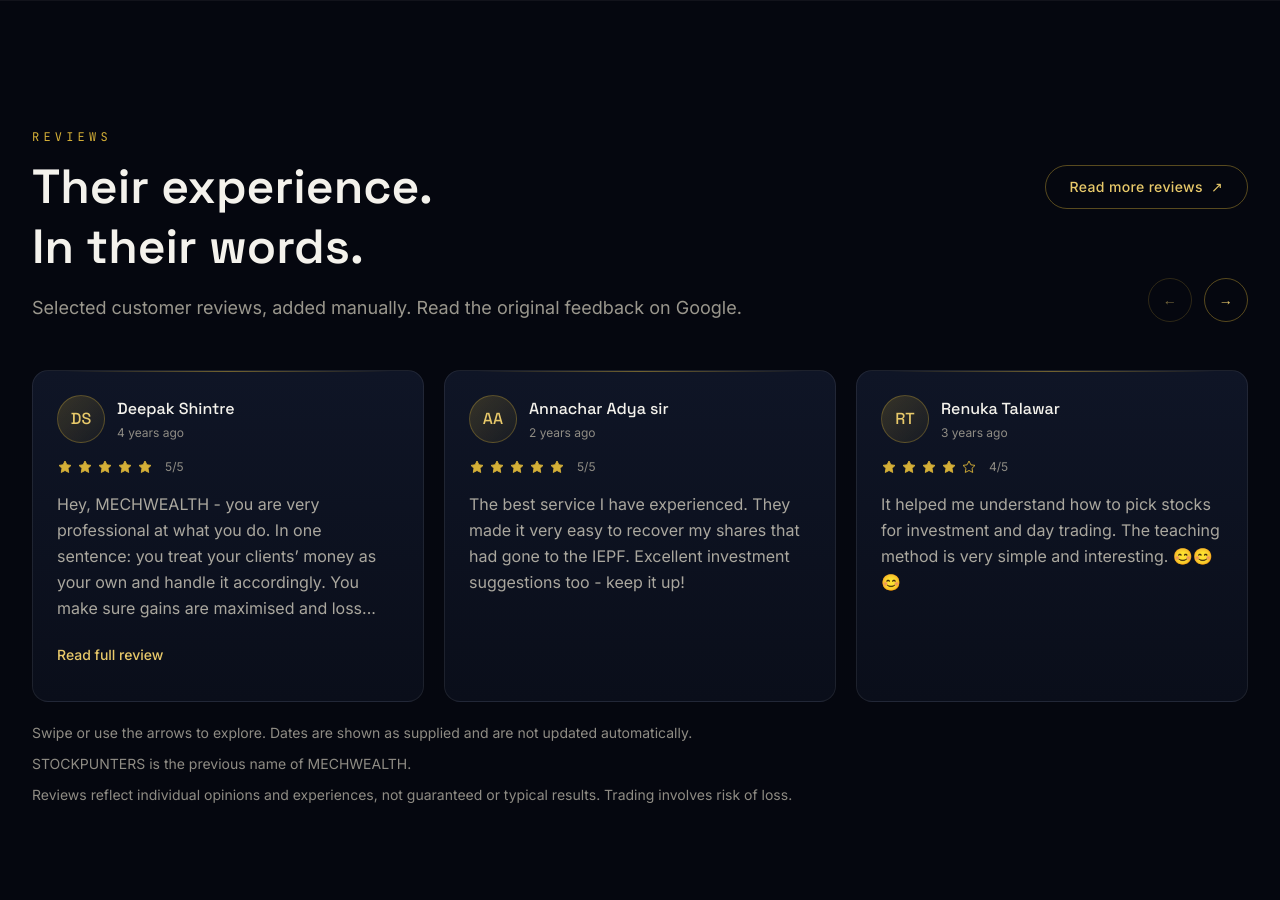
Test: customer review carousel › lets readers expand and collapse the long review without changing its text
The width and height of the screenshot is (1280, 900).
Click the button with aria-label "Read full review by Deepak Shintre". click: (110, 655)
box: [57,633,163,677]
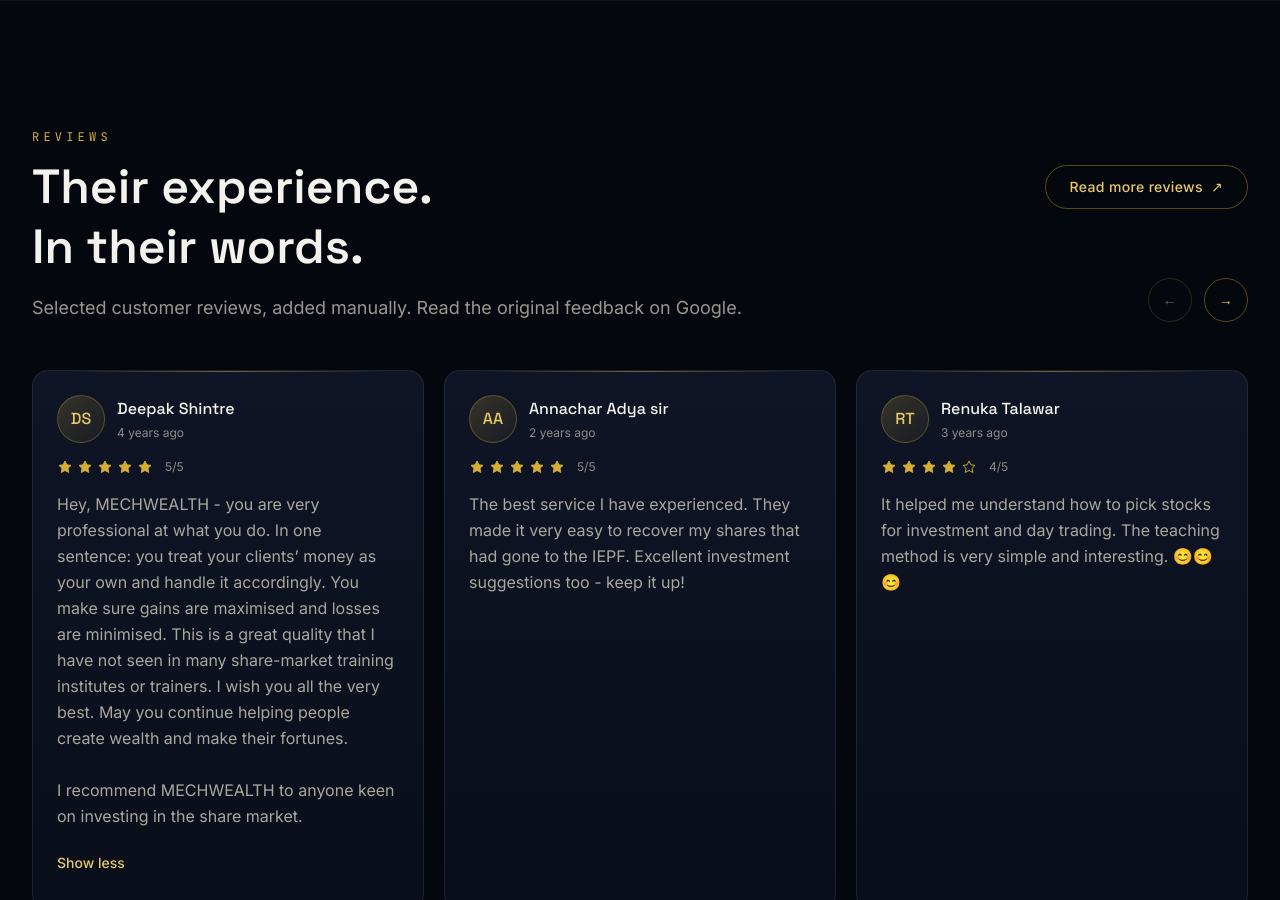
Check: the button with aria-label "Collapse review by Deepak Shintre" is expanded
Click the button with aria-label "Collapse review by Deepak Shintre". click: (91, 863)
box: [57,841,125,885]
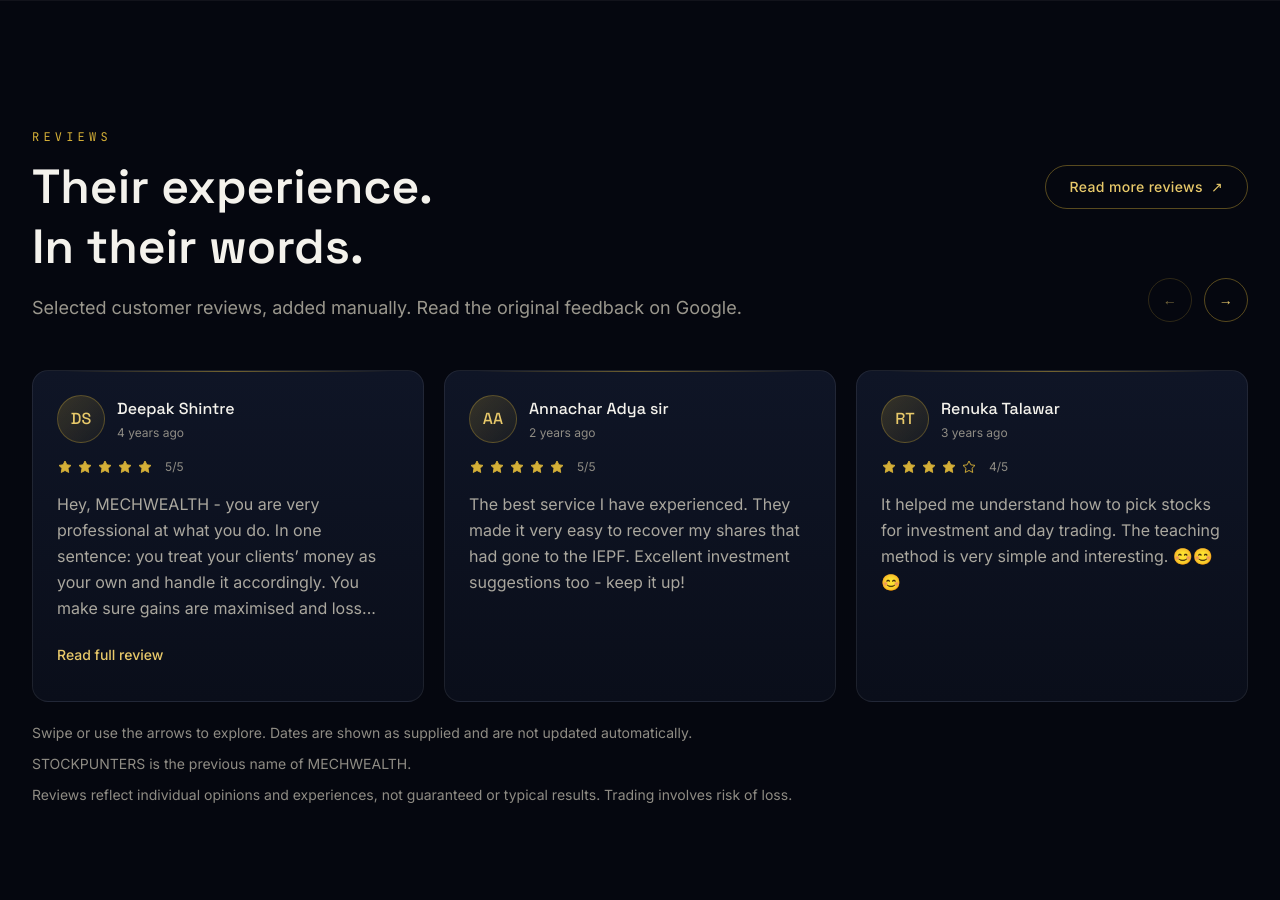
Check: the button with aria-label "Read full review by Deepak Shintre" is collapsed, box [57,633,163,677]
